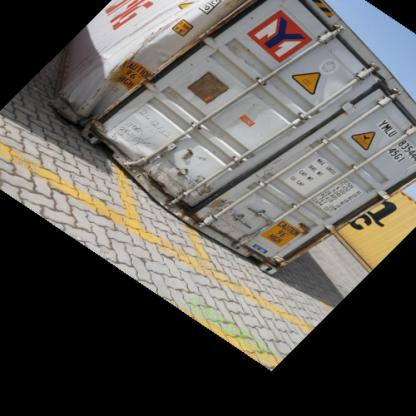Damage: (70, 17, 188, 110), (109, 117, 213, 195), (286, 212, 316, 240)
